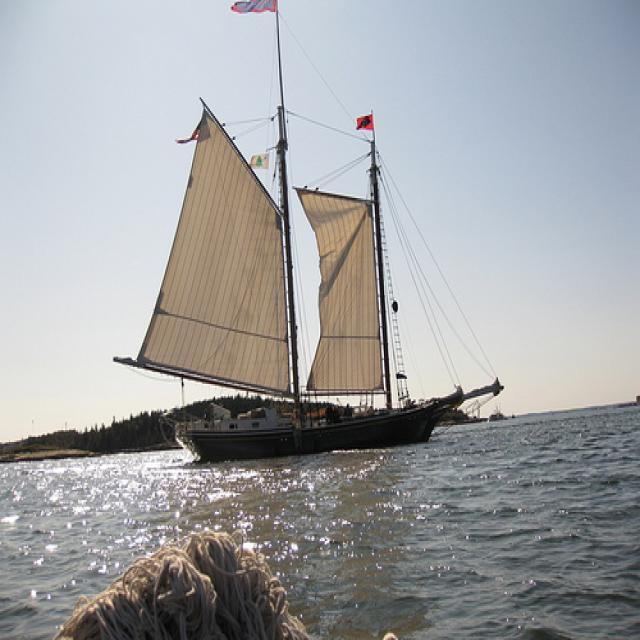Ship: (130, 1, 490, 467)
